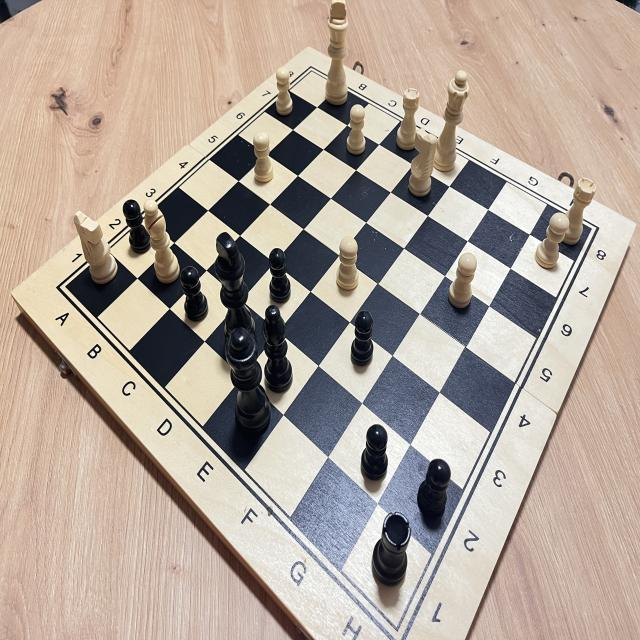black-bishop: (260, 298, 297, 401)
black-king: (207, 222, 266, 360)
black-pawn: (414, 449, 456, 526), (175, 254, 214, 326), (358, 416, 390, 489), (262, 243, 298, 306), (122, 192, 155, 260), (346, 304, 379, 369)
black-queen: (220, 320, 274, 442)
black-rook: (368, 500, 418, 598)
white-bishop: (138, 189, 183, 289)
white-king: (313, 1, 358, 116)
white-knight: (69, 201, 122, 287), (400, 127, 440, 205)
white-pawn: (530, 209, 574, 274), (443, 248, 480, 318), (332, 233, 367, 300), (343, 100, 374, 162), (248, 131, 280, 191), (270, 64, 298, 123)
white-queen: (434, 62, 476, 184)
white-rook: (556, 172, 598, 250), (394, 82, 426, 158)
